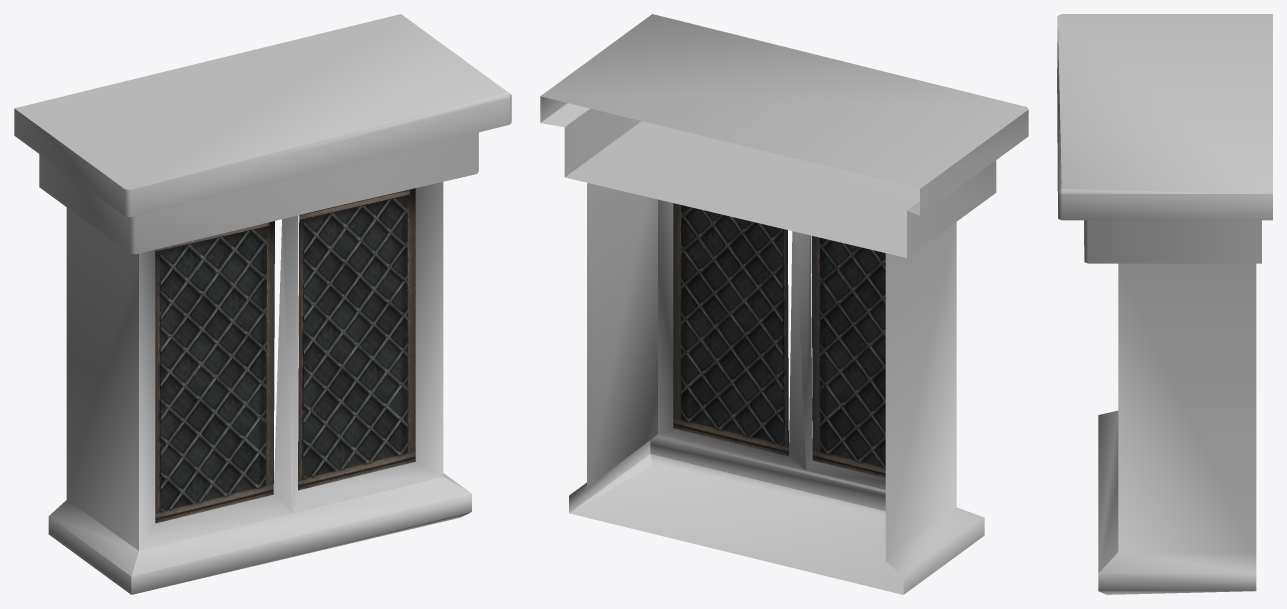
File: balkony2_LOD.fbx
The picture shows the model from 3 angles, left to right: view 1: azimuth 30°, elevation 25°; view 2: azimuth 150°, elevation 25°; view 3: azimuth 270°, elevation 25°; orthographic projection. The views are drawn at different scales.
Parts seen in each view (by area): view 1: Mesh Object; view 2: Mesh Object; view 3: Mesh Object.
Boxes of the visible parts, bbox=[...] form: Mesh Object: bbox=[14, 14, 511, 594]; Mesh Object: bbox=[540, 14, 1028, 594]; Mesh Object: bbox=[1057, 14, 1272, 594].
Bounding box in the file's own units: 2.26 × 2.44 × 1.14.
